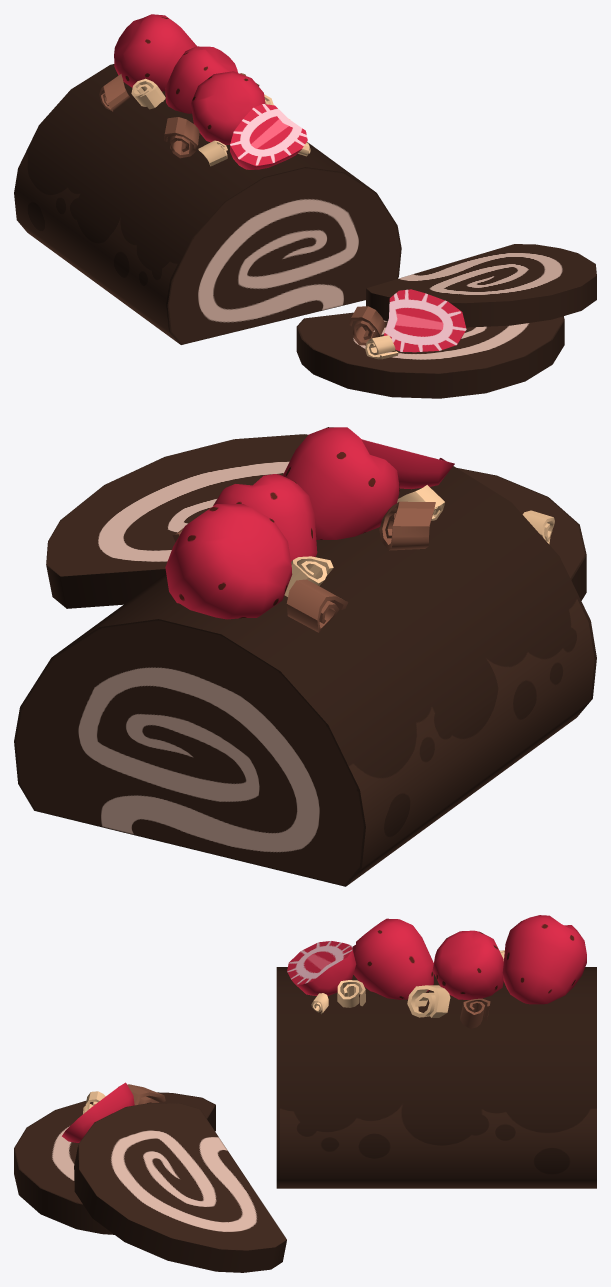
Rendered from m_swissrollV1.fbx.
3 views of the same model, one above another, from view 1: azimuth 30°, elevation 25°; view 2: azimuth 150°, elevation 25°; view 3: azimuth 270°, elevation 25° (orthographic). The views are drawn at different scales.
Parts seen in each view (by area): view 1: swiss rollV1; view 2: swiss rollV1; view 3: swiss rollV1.
Boxes of the visible parts, left/top/right/bottom form: swiss rollV1: left=14, top=14, right=596, bottom=398; swiss rollV1: left=14, top=427, right=596, bottom=886; swiss rollV1: left=14, top=915, right=596, bottom=1272.
Size of the model in its own units: 20.45 by 10.98 by 25.8.
